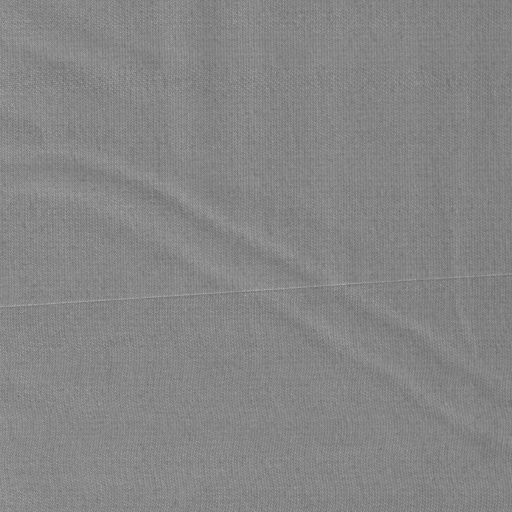defect: (1, 272, 512, 312)
